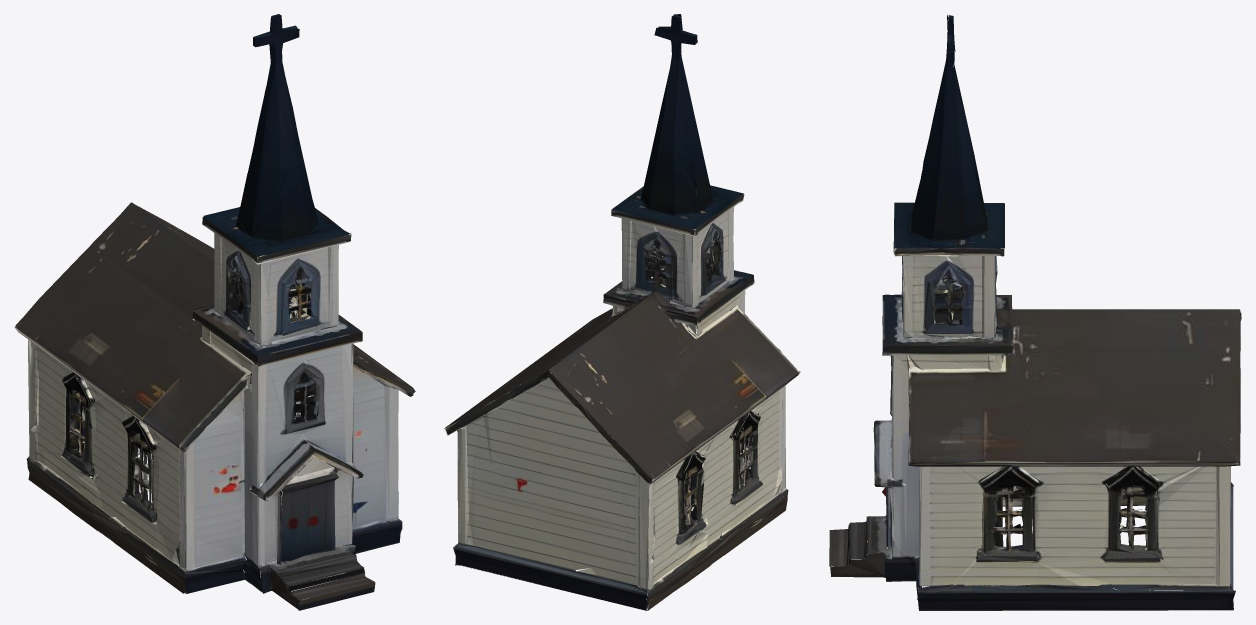
File: small_church.glb
The picture shows the model from 3 angles, left to right: view 1: azimuth 30°, elevation 25°; view 2: azimuth 150°, elevation 25°; view 3: azimuth 270°, elevation 25°; orthographic projection. The views are drawn at different scales.
Visible parts, largest first — view 1: obj.obj; view 2: obj.obj; view 3: obj.obj.
Boxes of the visible parts, x1=… form: obj.obj: x1=14, y1=14, x2=415, y2=610; obj.obj: x1=444, y1=14, x2=800, y2=610; obj.obj: x1=829, y1=14, x2=1241, y2=610.
Bounding box in the file's own units: 6.32 × 14 × 9.58.
1 material, 1 textured.
